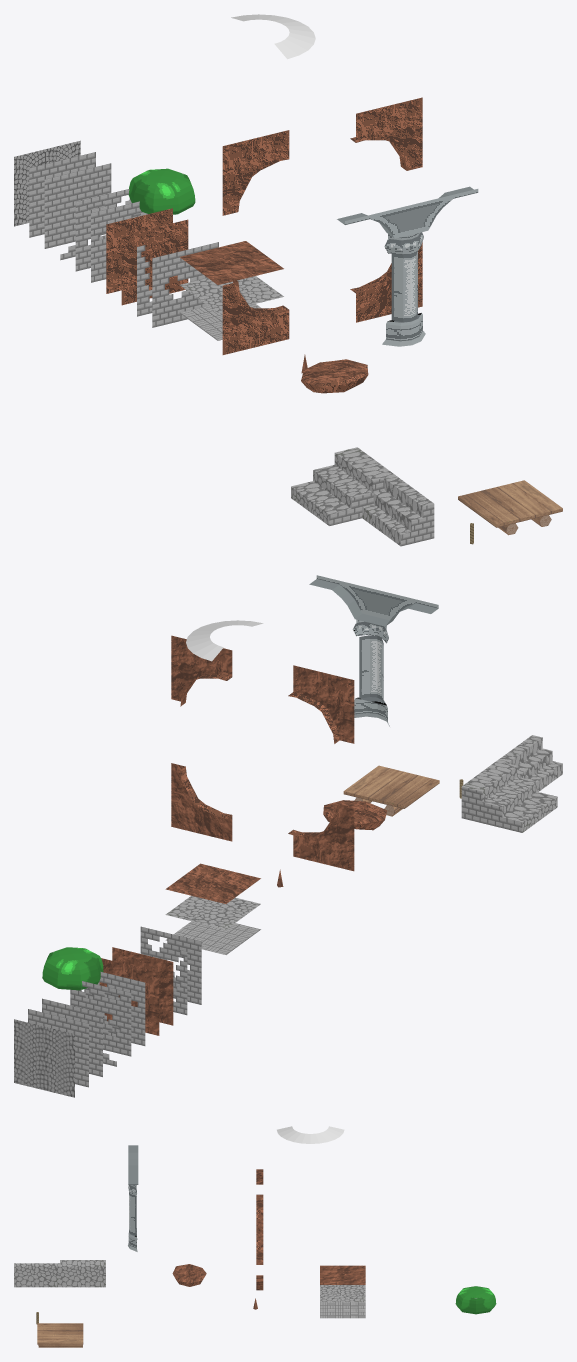
Rendered from assets.glb.
3 renders of one model, top to bottom at view 1: azimuth 30°, elevation 25°; view 2: azimuth 150°, elevation 25°; view 3: azimuth 270°, elevation 25°, orthographic. The views are drawn at different scales.
Visible parts, largest first — view 1: Cube.113, STEP_STONE_30_DEGREE.001, Cube.099, STEP_STONE_45_DEGRE.001, Cube.108, WOODEN_PLATFORM_PASSTROUGH.002, Cube.111, Cube.105, Cube.110, Cube.084, Cube.104, BOUNCY_SLIME_BLOCK (+11 smaller); view 2: Cube.113, STEP_STONE_30_DEGREE.001, Cube.103, Cube.110, Cube.108, WOODEN_PLATFORM_PASSTROUGH.002, Cube.109, Cube.087, Cube.111, Cube.104, BOUNCY_SLIME_BLOCK, Cube.084 (+11 smaller); view 3: STEP_STONE_30_DEGREE.001, WOODEN_PLATFORM_PASSTROUGH.002, STEP_STONE_45_DEGRE.001, Cube.113, BOUNCY_SLIME_BLOCK, Cube.104, Cube.101, Cube.100, SLASH, Cube.112, Cube.111.
Boxes of the visible parts, x1=… form: Cube.113: x1=337, y1=186, x2=478, y2=346; STEP_STONE_30_DEGREE.001: x1=291, y1=447, x2=395, y2=525; Cube.099: x1=44, y1=163, x2=111, y2=248; STEP_STONE_45_DEGRE.001: x1=362, y1=475, x2=434, y2=546; Cube.108: x1=222, y1=277, x2=289, y2=354; WOODEN_PLATFORM_PASSTROUGH.002: x1=458, y1=480, x2=562, y2=535; Cube.111: x1=350, y1=97, x2=422, y2=170; Cube.105: x1=121, y1=219, x2=188, y2=305; Cube.110: x1=222, y1=130, x2=289, y2=215; Cube.084: x1=152, y1=242, x2=218, y2=327; Cube.104: x1=180, y1=241, x2=283, y2=284; BOUNCY_SLIME_BLOCK: x1=128, y1=168, x2=195, y2=214; Cube.113: x1=309, y1=575, x2=438, y2=726; STEP_STONE_30_DEGREE.001: x1=461, y1=761, x2=557, y2=832; Cube.103: x1=14, y1=1019, x2=74, y2=1097; Cube.110: x1=288, y1=665, x2=354, y2=743; Cube.108: x1=288, y1=804, x2=354, y2=871; WOODEN_PLATFORM_PASSTROUGH.002: x1=343, y1=765, x2=439, y2=816; Cube.109: x1=171, y1=763, x2=232, y2=841; Cube.087: x1=70, y1=981, x2=131, y2=1056; Cube.111: x1=171, y1=635, x2=232, y2=706; Cube.104: x1=165, y1=863, x2=260, y2=903; BOUNCY_SLIME_BLOCK: x1=42, y1=947, x2=103, y2=990; Cube.084: x1=140, y1=926, x2=201, y2=1004; STEP_STONE_30_DEGREE.001: x1=60, y1=1260, x2=105, y2=1287; WOODEN_PLATFORM_PASSTROUGH.002: x1=37, y1=1323, x2=83, y2=1347; STEP_STONE_45_DEGRE.001: x1=14, y1=1263, x2=59, y2=1287; Cube.113: x1=128, y1=1145, x2=138, y2=1251; BOUNCY_SLIME_BLOCK: x1=455, y1=1286, x2=496, y2=1314; Cube.104: x1=320, y1=1265, x2=365, y2=1284; Cube.101: x1=320, y1=1301, x2=365, y2=1318; Cube.100: x1=320, y1=1285, x2=365, y2=1301; SLASH: x1=277, y1=1126, x2=344, y2=1143; Cube.112: x1=172, y1=1264, x2=206, y2=1286; Cube.111: x1=256, y1=1194, x2=263, y2=1233.
Bounding box in the file's own units: 9.67 × 12.24 × 29.92.
7 materials, 7 textured.
